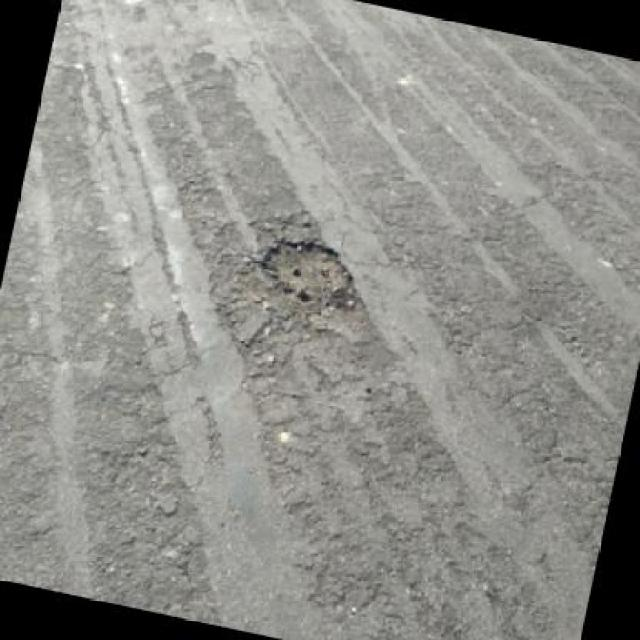pothole: (249, 228, 365, 312)
